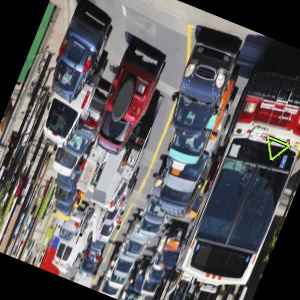triangle: (263, 134, 292, 163)
